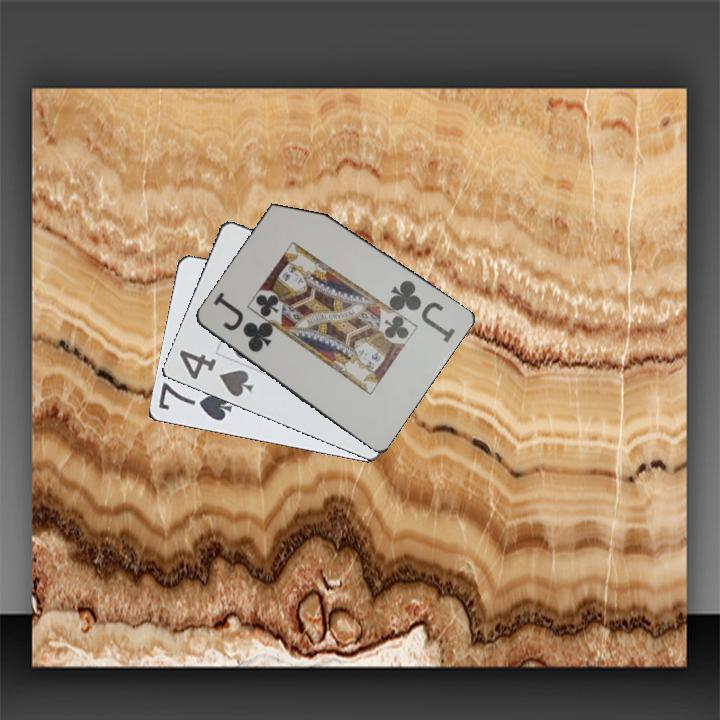4s: (175, 346, 256, 400)
7s: (154, 379, 235, 424)
Jc: (385, 276, 458, 346), (209, 292, 275, 355)
